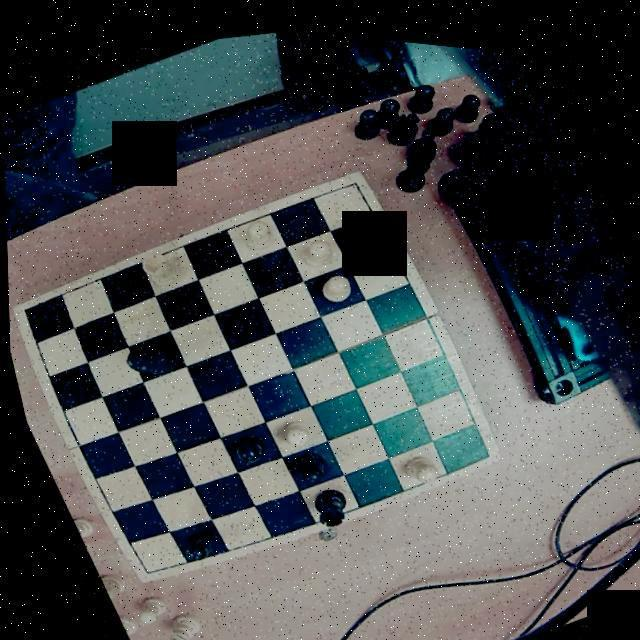chess-table-corners: (464, 425, 498, 459), (338, 160, 371, 193), (7, 294, 42, 324), (126, 550, 156, 580)
